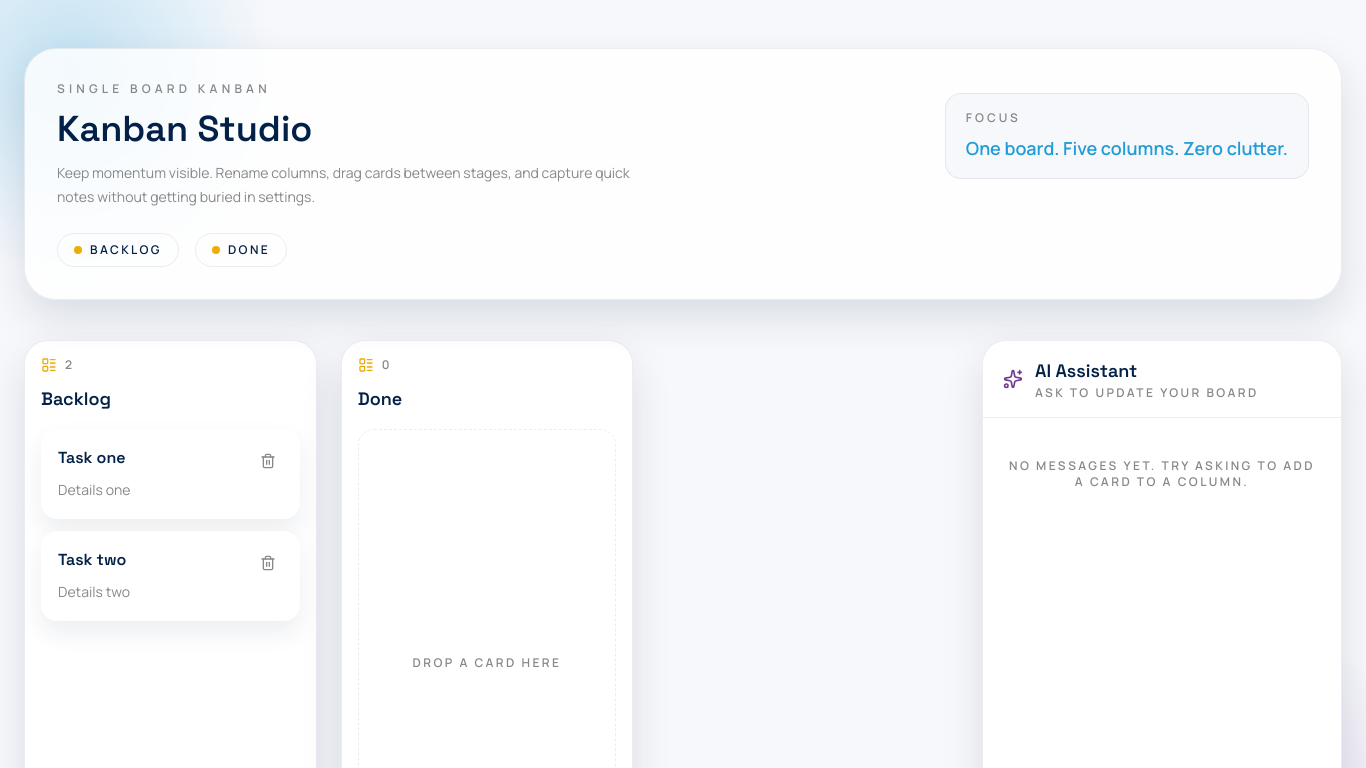
KanbanBoard › shows an error banner when saving fails
The width and height of the screenshot is (1366, 768).
Replace the text in the 1st field named "Column title" with "Broken": (170, 399) [41,385,300,413]
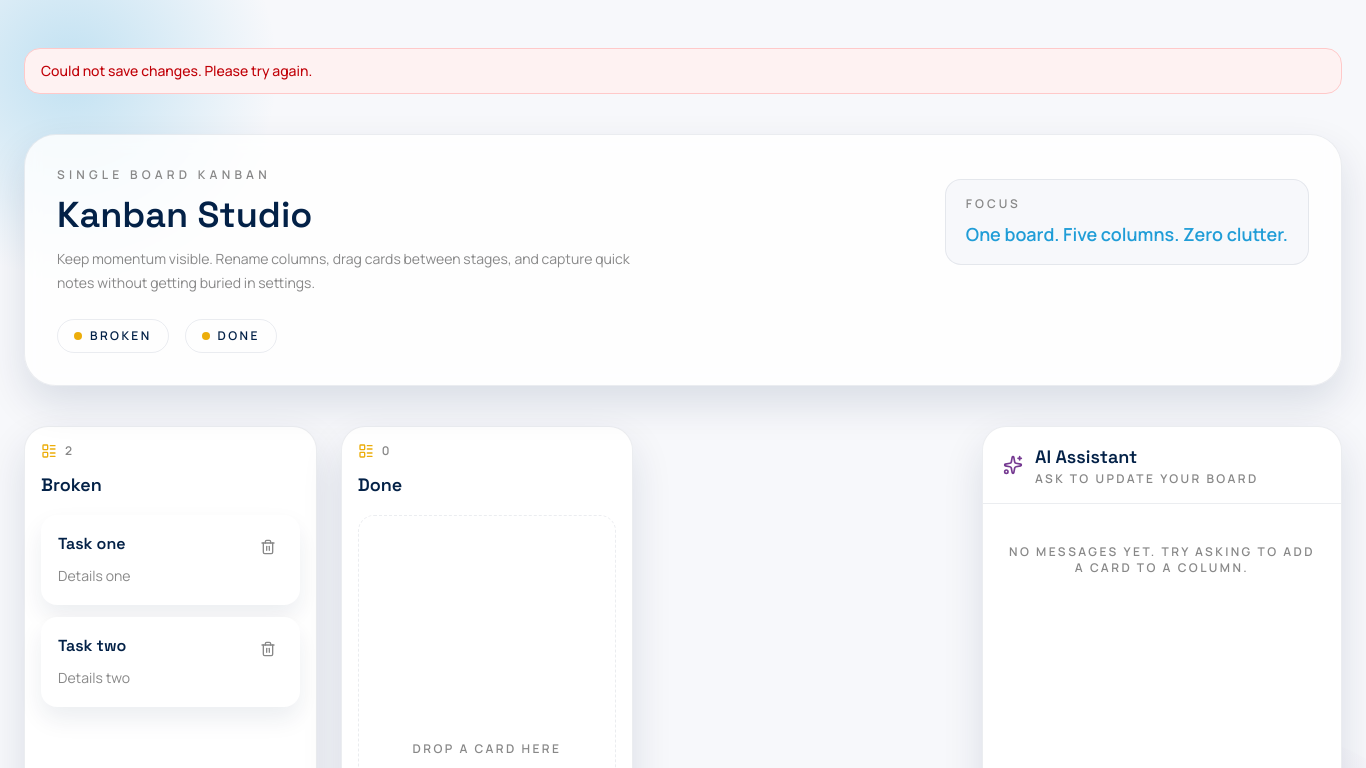
Expected: the message shows "Could not save changes", [41,61,312,80]
